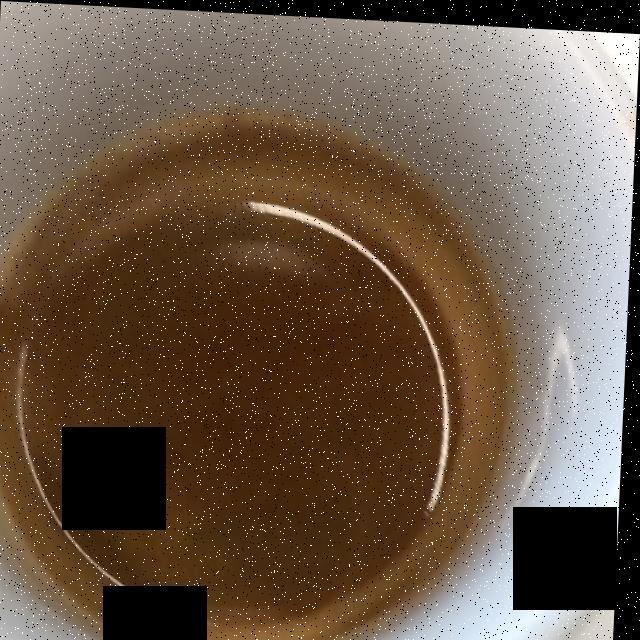espresso: (6, 132, 515, 625)
